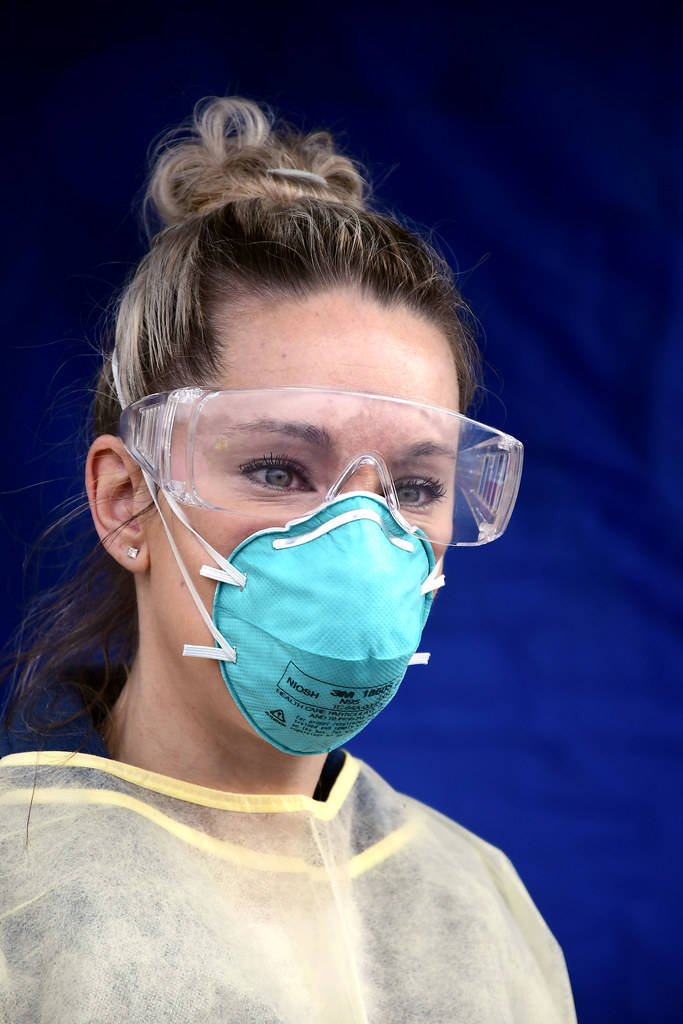n95: (190, 488, 444, 768)
